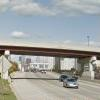Bridge: (4, 32, 99, 70)
